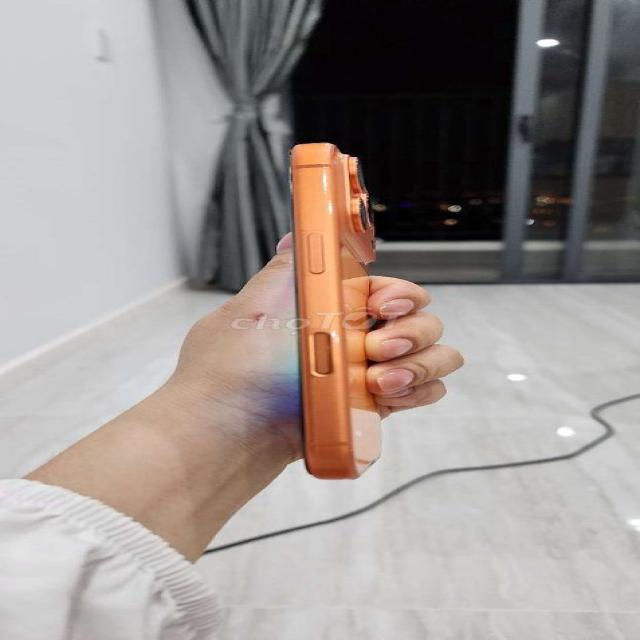scratch: (316, 165, 337, 222)
